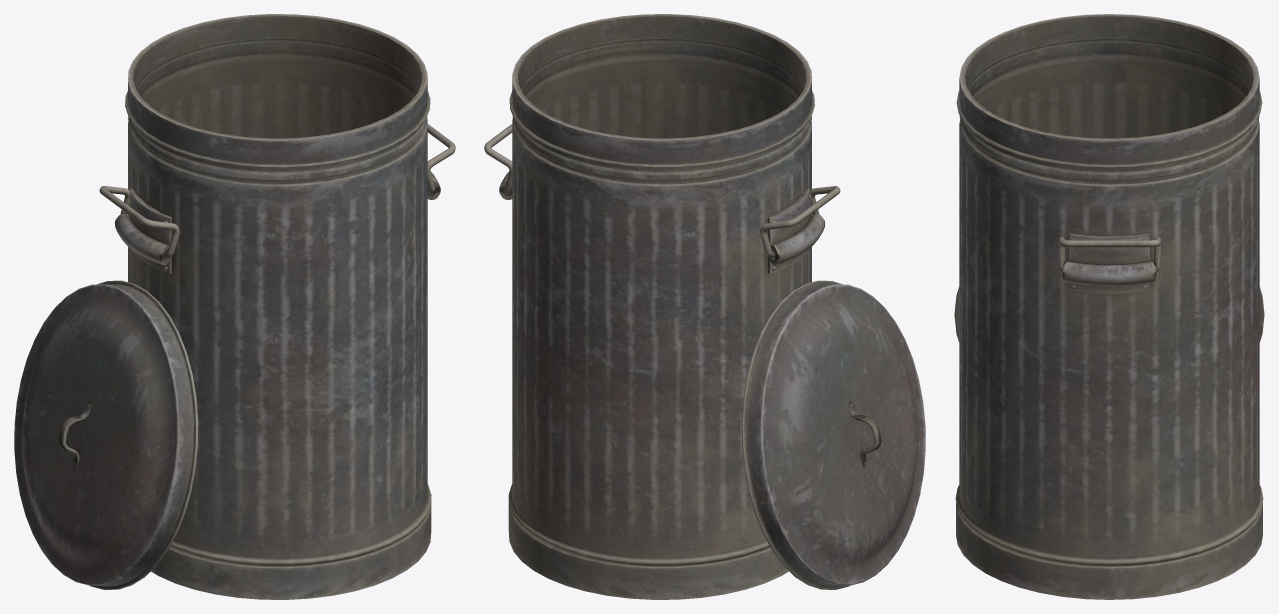
Rendered from trash-can.glb.
3 renders of one model, left to right at view 1: azimuth 30°, elevation 25°; view 2: azimuth 150°, elevation 25°; view 3: azimuth 270°, elevation 25°, orthographic.
Visible parts, largest first — view 1: metal_trash_can_handle_left; view 2: metal_trash_can_handle_left; view 3: metal_trash_can_handle_left.
Part boxes in pixels (bbox=[...]): metal_trash_can_handle_left: bbox=[14, 14, 455, 599]; metal_trash_can_handle_left: bbox=[484, 14, 925, 599]; metal_trash_can_handle_left: bbox=[954, 14, 1264, 599].
Bounding box in the file's own units: 0.778 × 0.9062 × 0.5563.
Materials: 1 (1 with a texture image).
